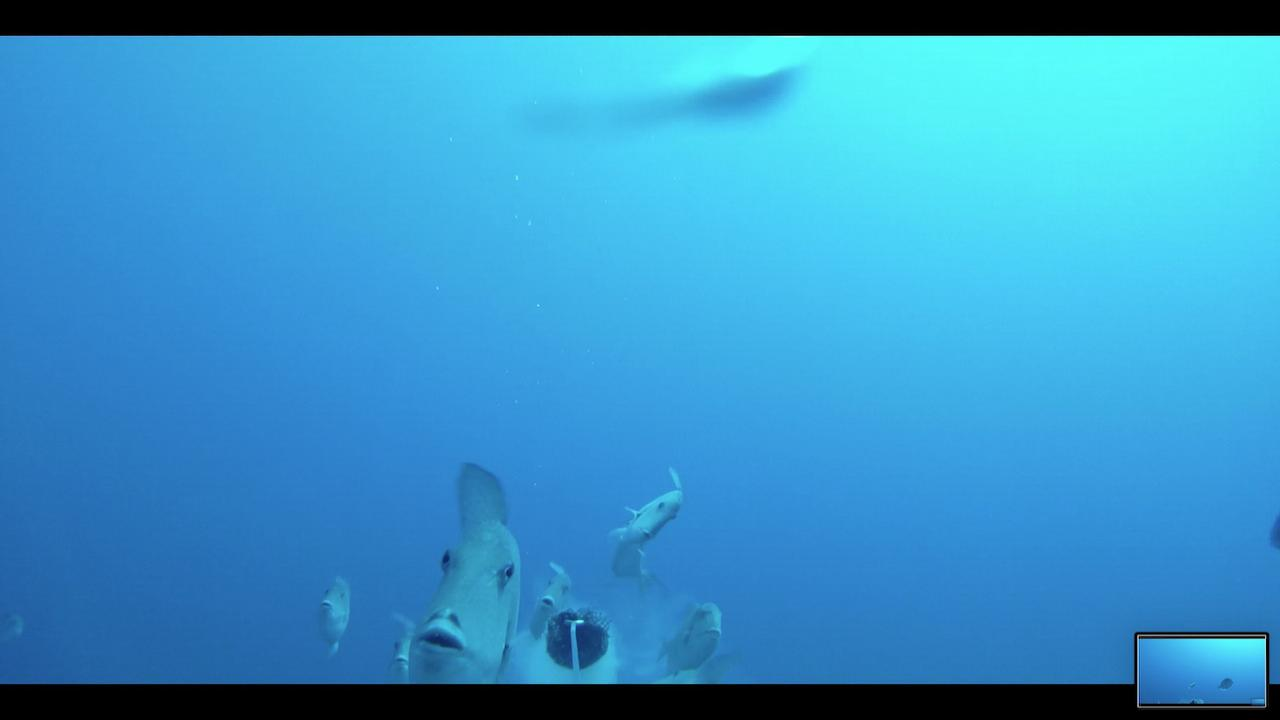balistes: (383, 448, 535, 680), (607, 459, 687, 558), (647, 594, 721, 674), (307, 565, 355, 662), (525, 556, 573, 642)
